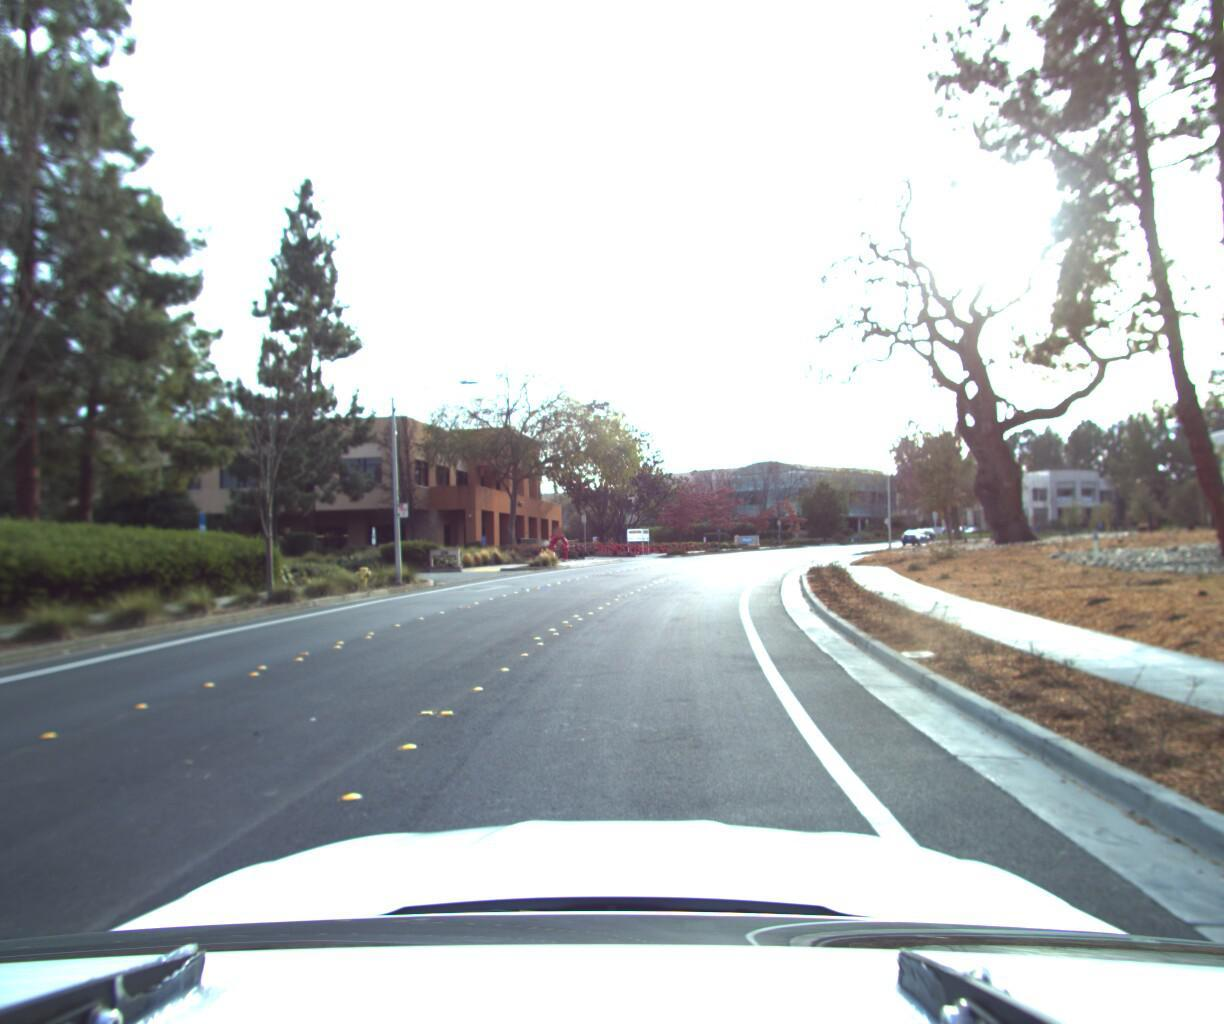car: (897, 524, 931, 543)
